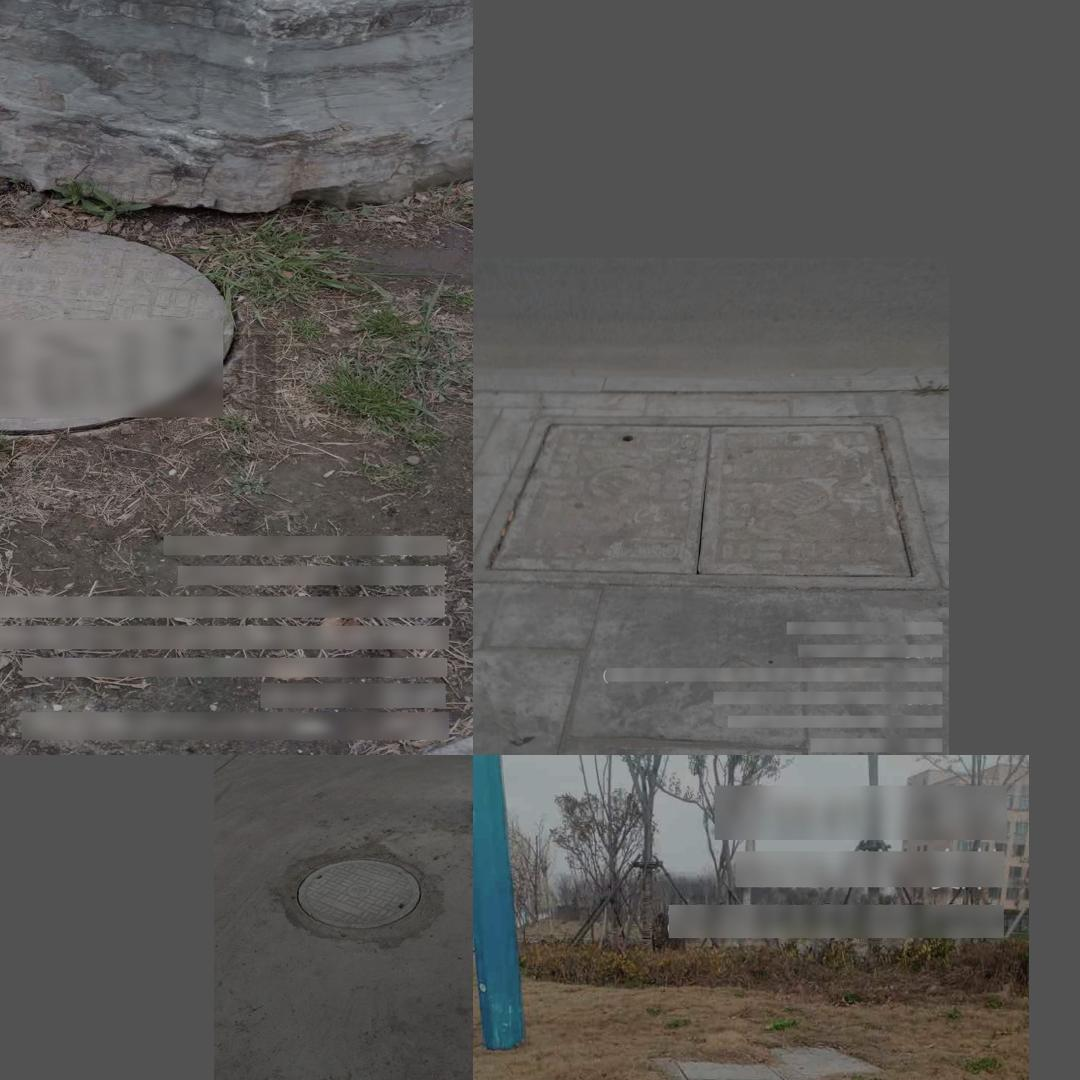good: (489, 414, 902, 570), (0, 227, 229, 445), (266, 841, 449, 950), (653, 1019, 861, 1080)
